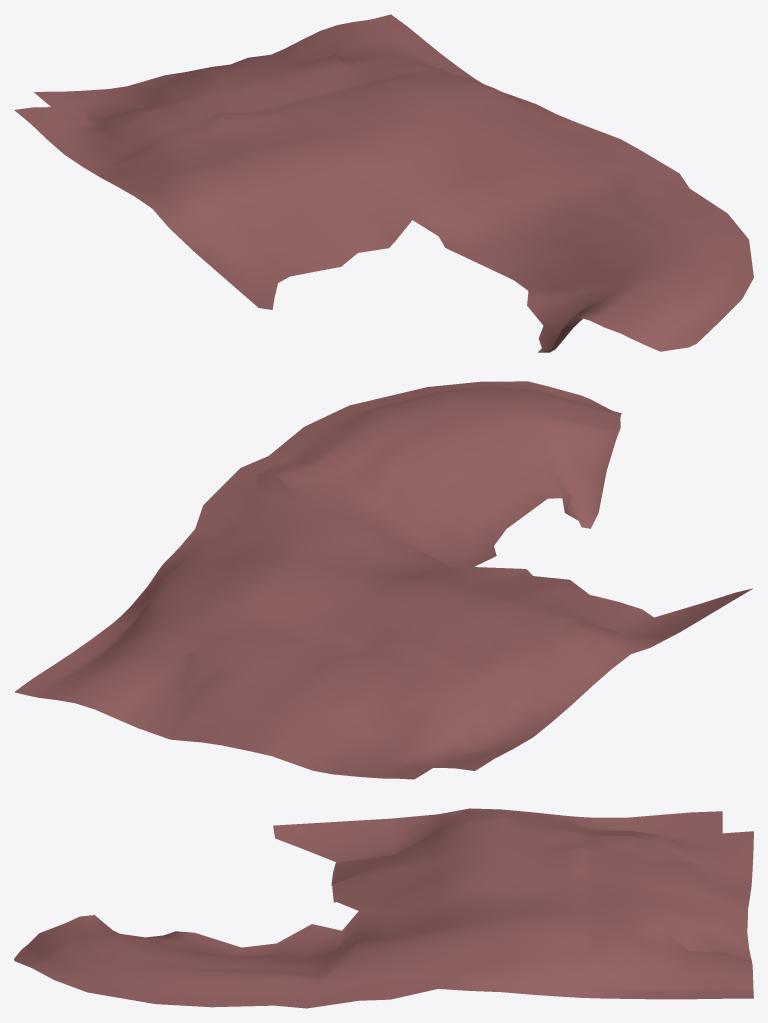
File: hate.fbx
3 renders of one model, top to bottom at view 1: azimuth 30°, elevation 25°; view 2: azimuth 150°, elevation 25°; view 3: azimuth 270°, elevation 25°, orthographic. The views are drawn at different scales.
Visible parts, largest first — view 1: terrain_beach_round_uv_01; view 2: terrain_beach_round_uv_01; view 3: terrain_beach_round_uv_01.
Part boxes in pixels (x1,y1,x2,y2): terrain_beach_round_uv_01: (14, 14, 753, 352); terrain_beach_round_uv_01: (14, 381, 752, 779); terrain_beach_round_uv_01: (14, 808, 753, 1008).
Size of the model in its own units: 275 by 51.78 by 440.
